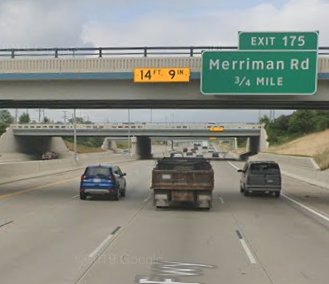1: (138, 67, 144, 82)
4: (142, 66, 154, 83)
9: (166, 68, 177, 82)
overheadsign: (133, 67, 191, 84)
